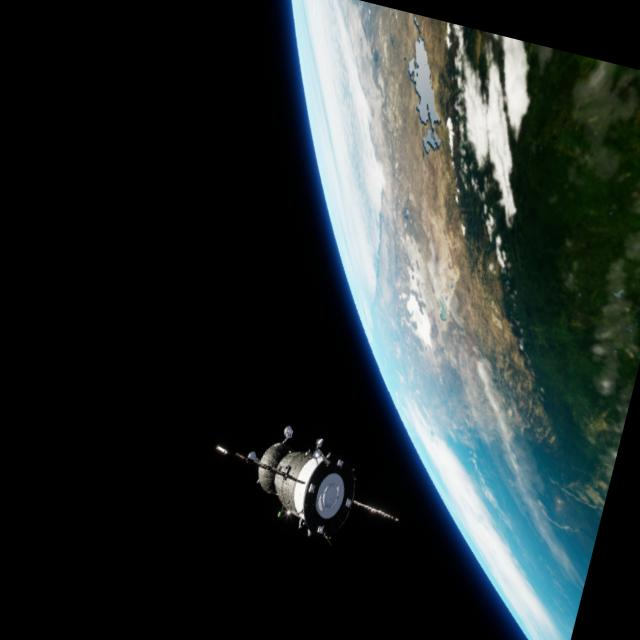Satellites revolving around earth: (194, 402, 417, 564)
